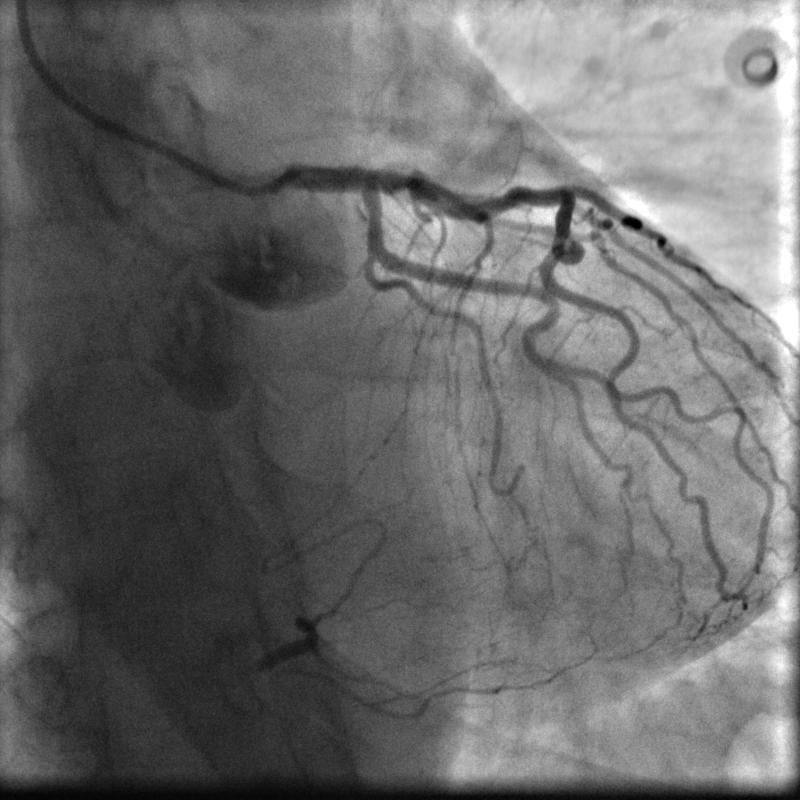Stenosis: (387, 166, 423, 201)
